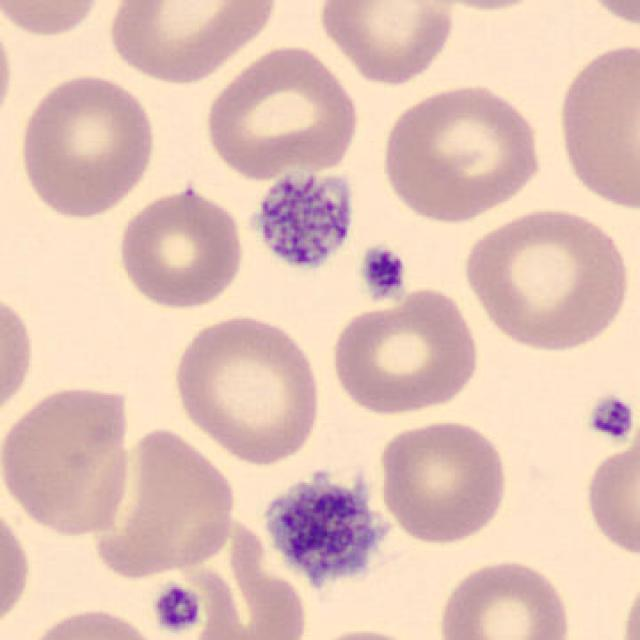Platelets: (258, 465, 396, 596), (243, 166, 361, 277), (357, 244, 407, 302), (151, 582, 203, 636), (583, 392, 635, 444)
RBC: (457, 203, 633, 354), (377, 79, 547, 226), (167, 310, 325, 466), (199, 42, 363, 182), (88, 429, 242, 576), (14, 69, 160, 222), (0, 379, 139, 538), (326, 284, 484, 418), (373, 416, 512, 547), (114, 183, 249, 312), (553, 37, 640, 213), (103, 0, 281, 86), (314, 0, 458, 86), (434, 555, 574, 640), (582, 437, 638, 561), (18, 603, 165, 640), (0, 285, 37, 426), (0, 496, 34, 636), (0, 0, 108, 40), (0, 7, 18, 136), (297, 624, 434, 640), (405, 0, 560, 14), (578, 0, 640, 35), (618, 566, 640, 640)
